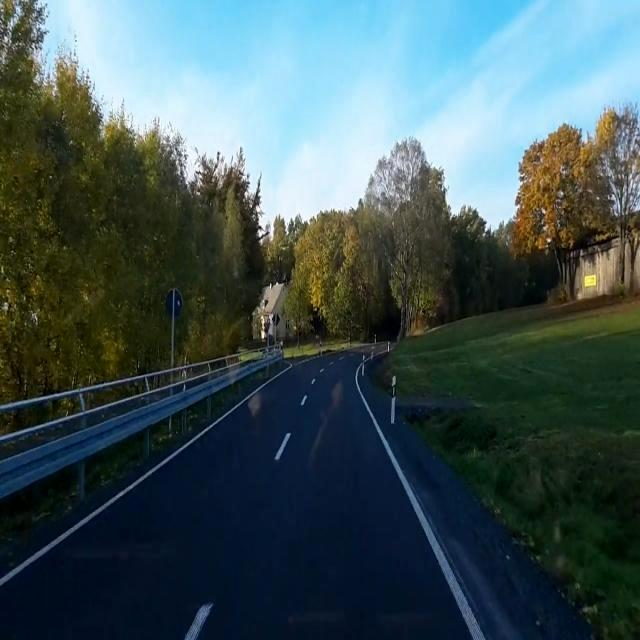lane: (0, 364, 293, 586), (358, 362, 483, 639), (183, 602, 213, 639)
road: (2, 351, 471, 639), (361, 379, 592, 639)
